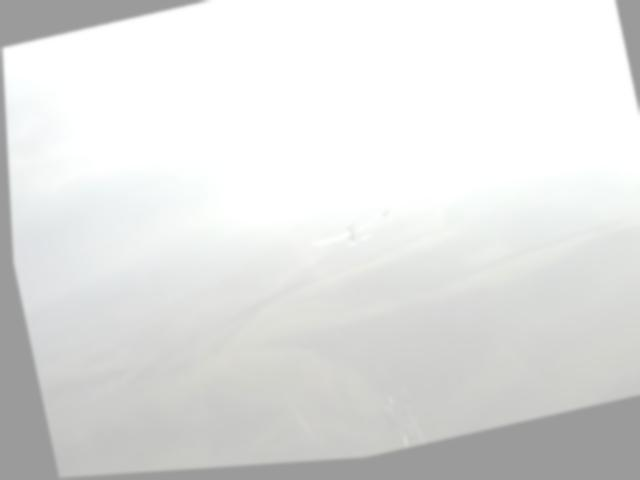iha: (305, 216, 387, 259)
